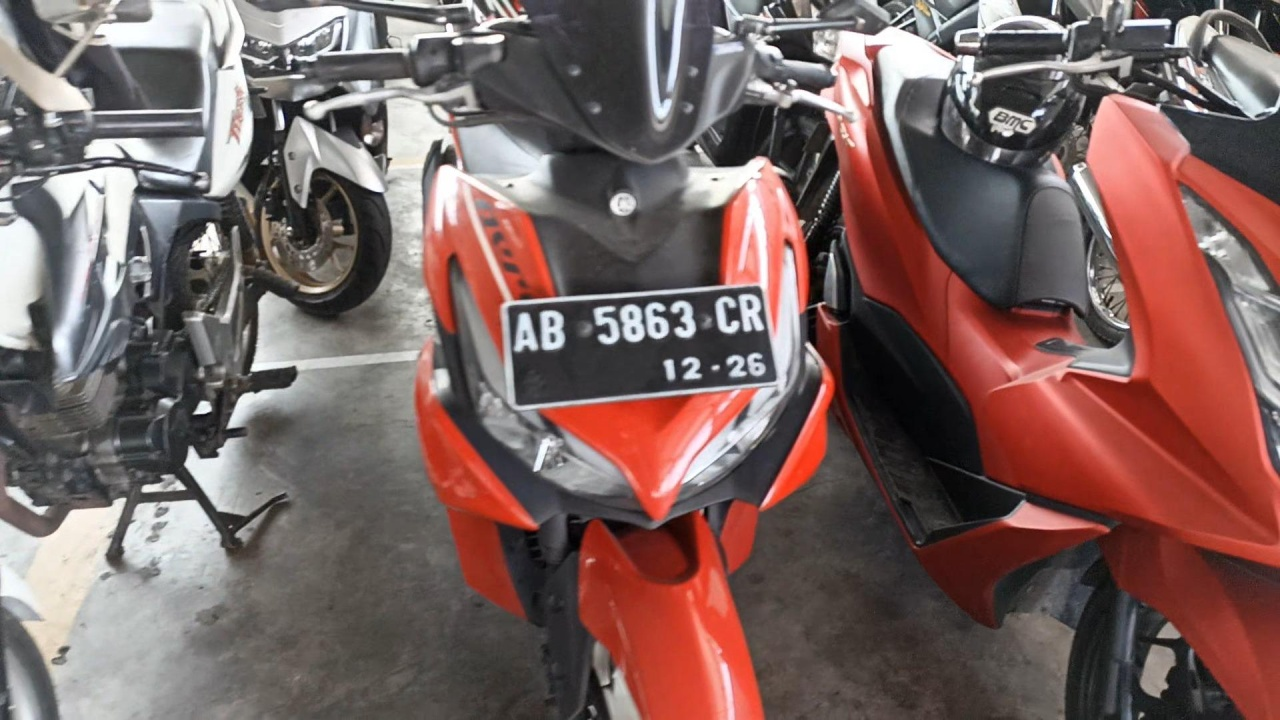plate: (501, 286, 785, 410)
